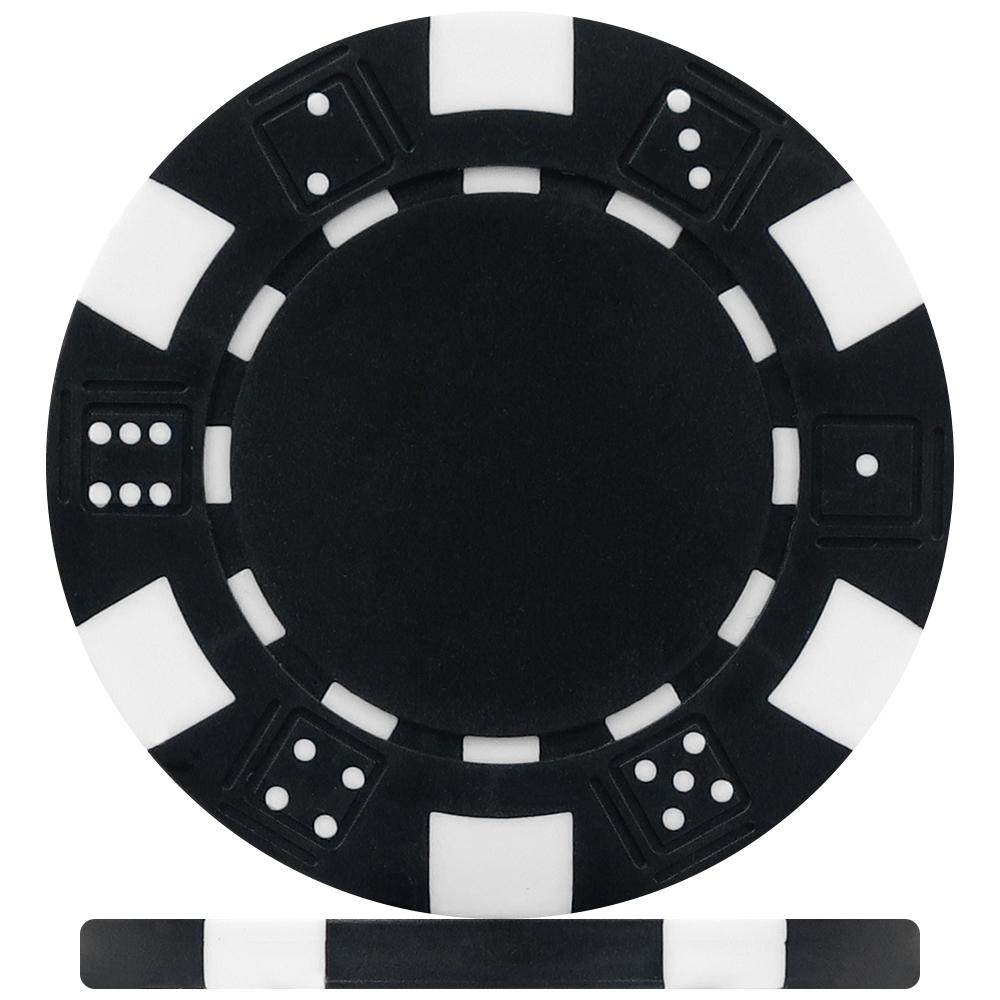chip-black: (49, 12, 951, 916)
